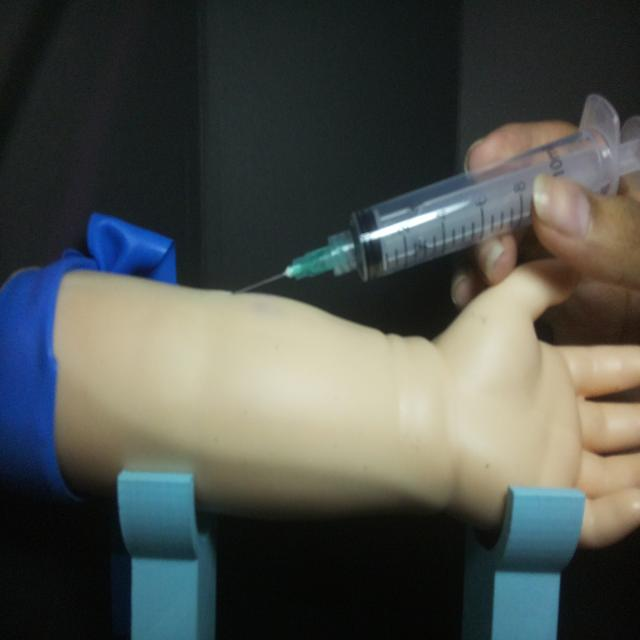20deg: (230, 90, 637, 298)
